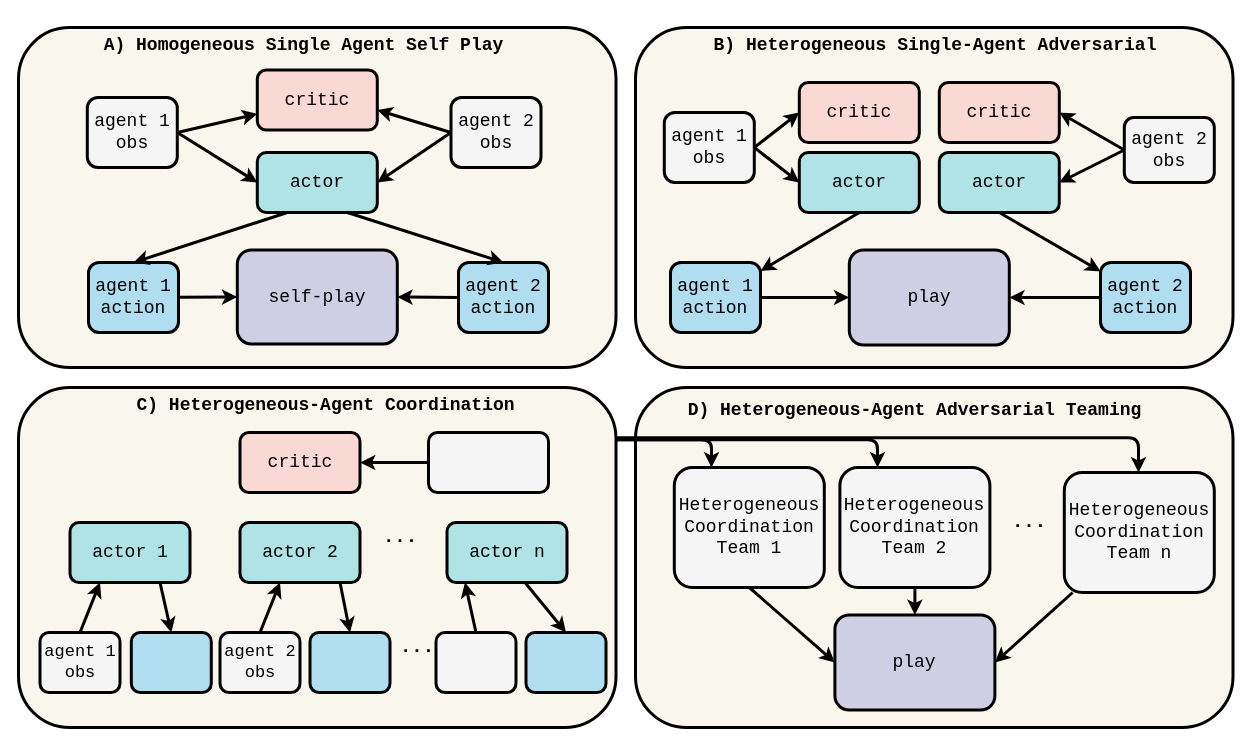
Some shapes in this 1252 by 746 pixel diagram are drawn without their labels. The centre of each missing label's shape, as x and y in pixels:
"agent 1 actions" goes at point 170,662.
"agent 2 actions" goes at point 349,662.
"agent n action" goes at point 565,662.
"agent n obs" goes at point 475,662.
"combined obs" goes at point 488,462.
